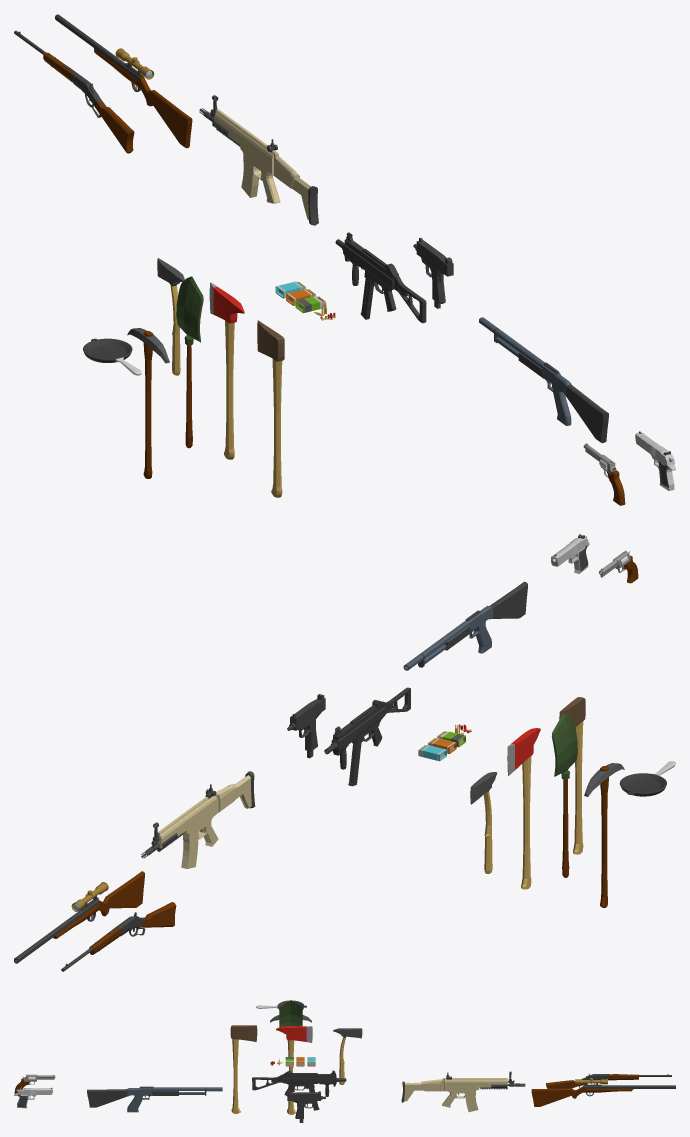
Rendered from Weapon For Unity Exports.fbx.
The picture shows the model from 3 angles, top to bottom: view 1: azimuth 30°, elevation 25°; view 2: azimuth 150°, elevation 25°; view 3: azimuth 270°, elevation 25°; orthographic projection. The views are drawn at different scales.
Visible parts, largest first — view 1: Gun Scar, Gun Shotgun, Gun UMP, Gun Sniper, Melee Fireaxe, Melee Shovel, Melee Woodcutting Axe, Gun Winchester, Melee Pickaxe, Gun Uzi, Melee Pan, Melee Throwing Axe (+2 smaller); view 2: Gun Scar, Gun Shotgun, Gun UMP, Gun Sniper, Melee Fireaxe, Melee Shovel, Gun Winchester, Melee Woodcutting Axe, Melee Pickaxe, Gun Uzi, Melee Throwing Axe, Melee Pan (+1 smaller); view 3: Gun Scar, Gun Shotgun, Gun Sniper, Gun UMP, Melee Woodcutting Axe, Melee Fireaxe, Gun Winchester, Melee Shovel, Gun Uzi, Melee Throwing Axe, Cube.001, Sidearm Revolver.
Part boxes in pixels (x1,y1,x2,y2): Gun Scar: [199, 95, 318, 225]; Gun Shotgun: [479, 317, 608, 443]; Gun UMP: [335, 232, 426, 323]; Gun Sniper: [55, 14, 192, 148]; Melee Fireaxe: [209, 282, 244, 459]; Melee Shovel: [176, 276, 203, 448]; Melee Woodcutting Axe: [257, 320, 284, 497]; Gun Winchester: [14, 30, 134, 153]; Melee Pickaxe: [127, 328, 169, 478]; Gun Uzi: [413, 237, 453, 308]; Melee Pan: [83, 338, 141, 375]; Melee Throwing Axe: [157, 258, 184, 375]; Gun Scar: [141, 771, 255, 868]; Gun Shotgun: [403, 581, 527, 670]; Gun UMP: [324, 687, 410, 786]; Gun Sniper: [14, 871, 144, 963]; Melee Fireaxe: [507, 728, 540, 889]; Melee Shovel: [551, 713, 577, 877]; Gun Winchester: [61, 902, 176, 971]; Melee Woodcutting Axe: [559, 697, 585, 854]; Melee Pickaxe: [584, 763, 624, 907]; Gun Uzi: [287, 694, 325, 758]; Melee Throwing Axe: [470, 772, 497, 873]; Melee Pan: [619, 761, 675, 796]; Gun Scar: [401, 1071, 525, 1112]; Gun Shotgun: [87, 1086, 222, 1112]; Gun Sniper: [531, 1078, 675, 1106]; Gun UMP: [252, 1070, 346, 1110]; Melee Woodcutting Axe: [230, 1025, 257, 1113]; Melee Fireaxe: [276, 1026, 312, 1114]; Gun Winchester: [546, 1073, 671, 1088]; Melee Shovel: [279, 1000, 302, 1087]; Gun Uzi: [287, 1091, 325, 1122]; Melee Throwing Axe: [333, 1028, 362, 1084]; Cube.001: [14, 1087, 52, 1108]; Sidearm Revolver: [14, 1074, 55, 1093].
Bounding box in the file's own units: 10729 × 5421 × 31041.
